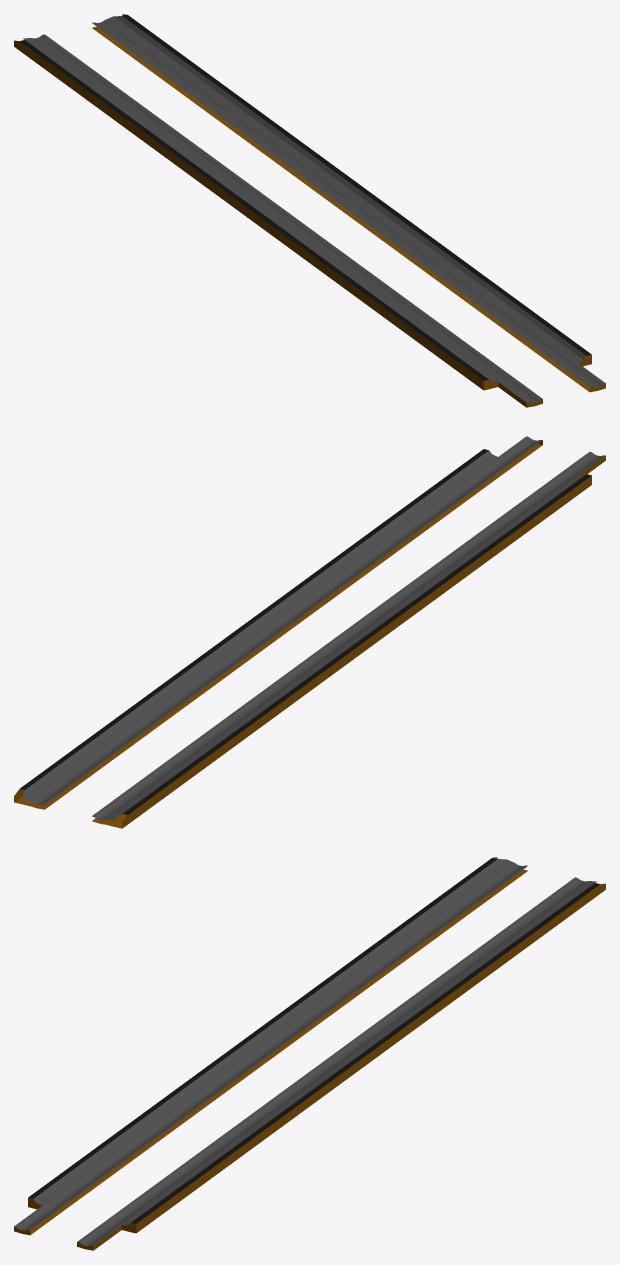
File: ditch_collision.glb
The picture shows the model from 3 angles, top to bottom: view 1: azimuth 30°, elevation 25°; view 2: azimuth 150°, elevation 25°; view 3: azimuth 330°, elevation 25°; orthographic projection.
Parts seen in each view (by area): view 1: BowlingLaneDitchesCollision-col; view 2: BowlingLaneDitchesCollision-col; view 3: BowlingLaneDitchesCollision-col.
Boxes of the visible parts, bbox=[...] form: BowlingLaneDitchesCollision-col: bbox=[14, 14, 605, 407]; BowlingLaneDitchesCollision-col: bbox=[14, 436, 605, 828]; BowlingLaneDitchesCollision-col: bbox=[14, 857, 605, 1250].
Size of the model in its own units: 2.43 by 0.2128 by 19.38.
1 material, 1 textured.
